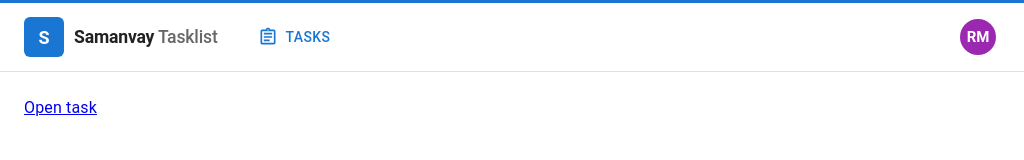
Scenario: AppShell › keeps rendering when navigating from the inbox to a task
Click the link "Open task": [60, 108] box [24,98,97,117]
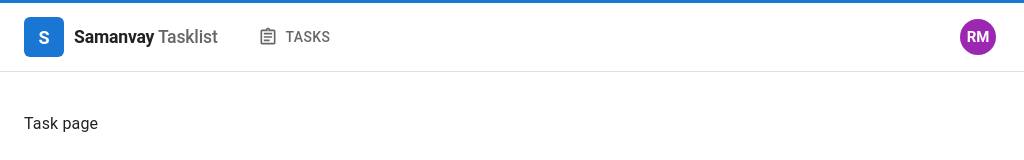
Check: the text "Task page" is shown, box [24,114,98,133]
